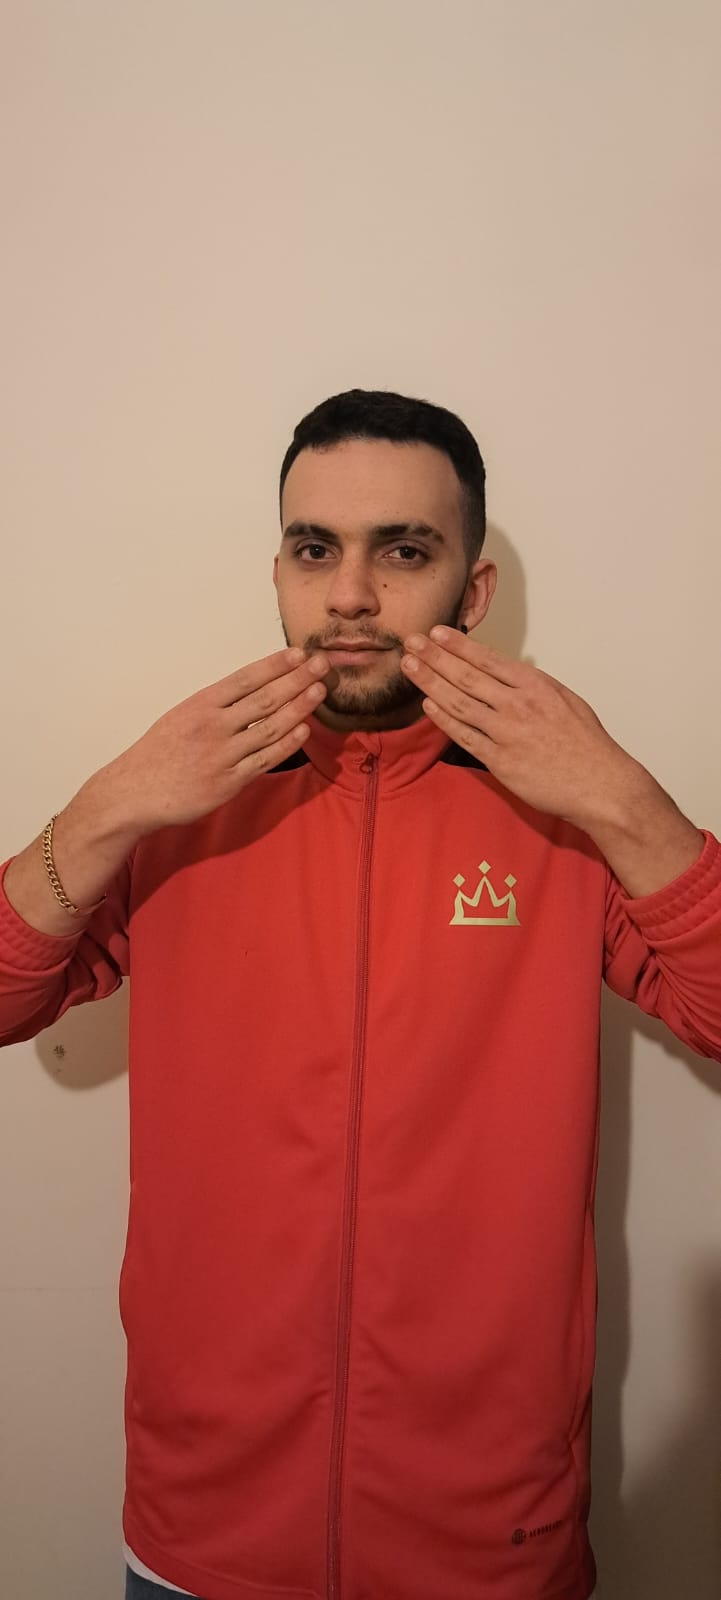grazie: (118, 617, 603, 834)
